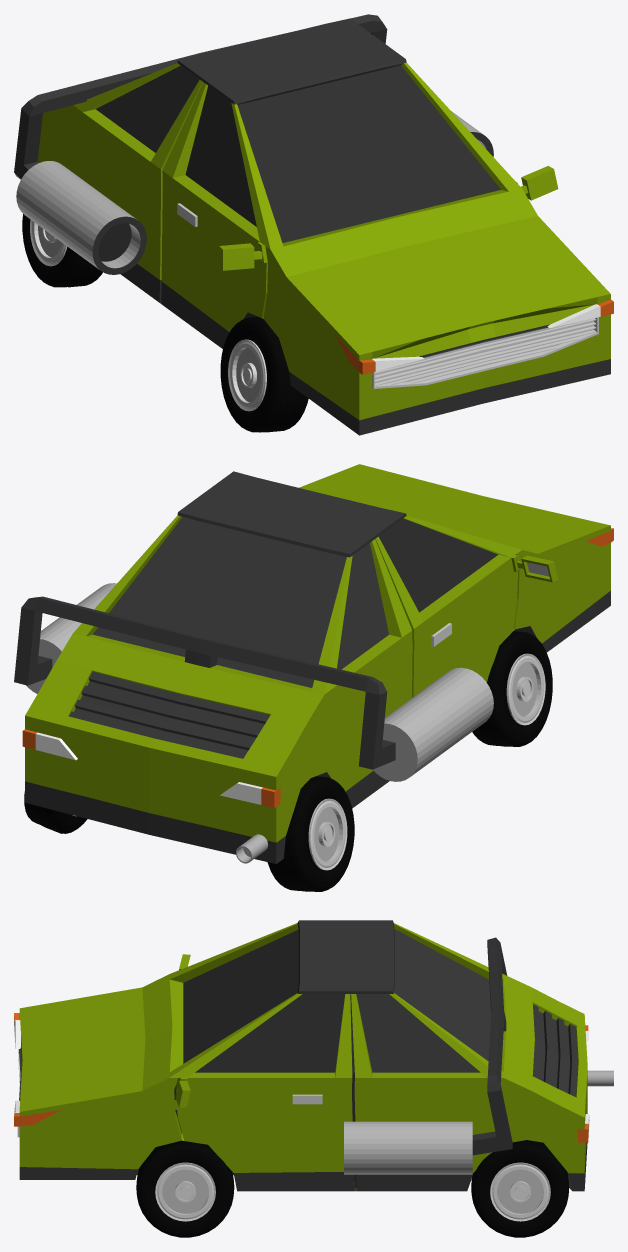
File: CR-CAR-14A.fbx
The picture shows the model from 3 angles, top to bottom: view 1: azimuth 30°, elevation 25°; view 2: azimuth 150°, elevation 25°; view 3: azimuth 270°, elevation 25°; orthographic projection. The views are drawn at different scales.
Parts seen in each view (by area): view 1: BODY, WHEEL.001, WHEEL.004; view 2: BODY, WHEEL.004, WHEEL.001, WHEEL.002, SHACMAN; view 3: BODY, WHEEL.003, WHEEL.002, SHACMAN.
Boxes of the visible parts, bbox=[...] form: BODY: bbox=[14, 14, 613, 435]; WHEEL.001: bbox=[220, 317, 308, 432]; WHEEL.004: bbox=[22, 214, 102, 287]; BODY: bbox=[14, 464, 613, 863]; WHEEL.004: bbox=[267, 776, 354, 891]; WHEEL.001: bbox=[472, 631, 552, 746]; WHEEL.002: bbox=[24, 791, 87, 833]; SHACMAN: bbox=[236, 834, 267, 863]; BODY: bbox=[14, 920, 589, 1191]; WHEEL.003: bbox=[136, 1140, 234, 1237]; WHEEL.002: bbox=[471, 1140, 569, 1237]; SHACMAN: bbox=[587, 1070, 613, 1086].
Size of the model in its own units: 156 by 100 by 240.
